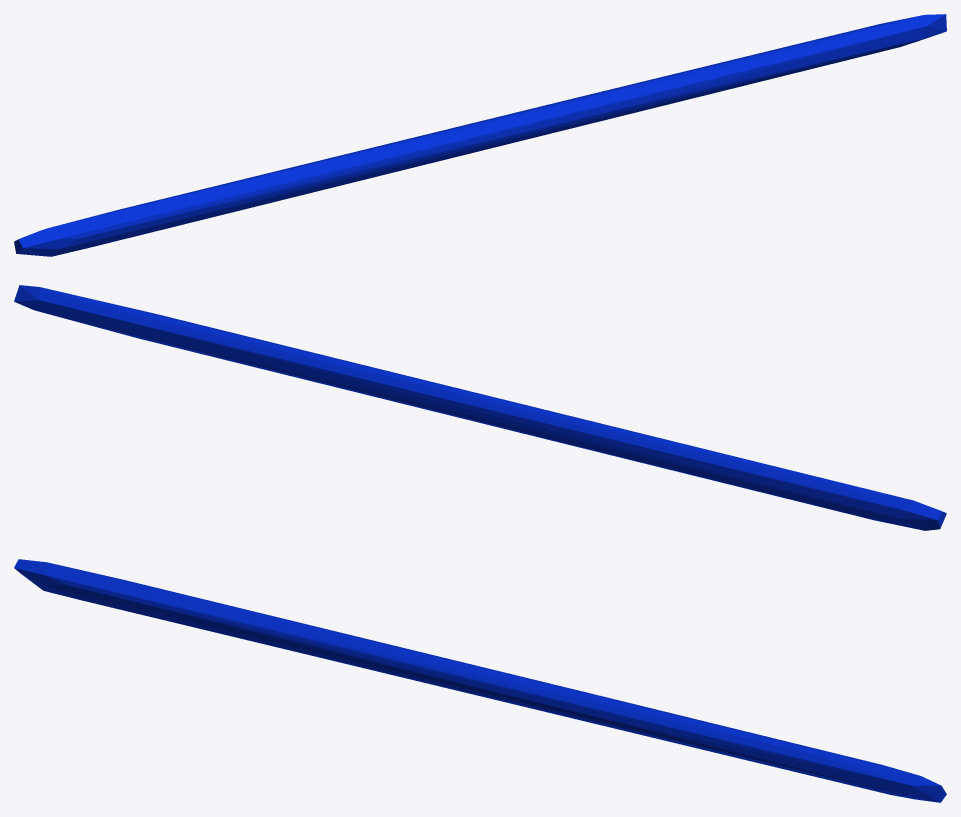
The model's file is toe-A-rod_convex_piece_000.obj.
3 renders of one model, top to bottom at view 1: azimuth 30°, elevation 25°; view 2: azimuth 150°, elevation 25°; view 3: azimuth 330°, elevation 25°, orthographic.
Bounding box in the file's own units: 0.3173 × 0.00902 × 0.00789.
